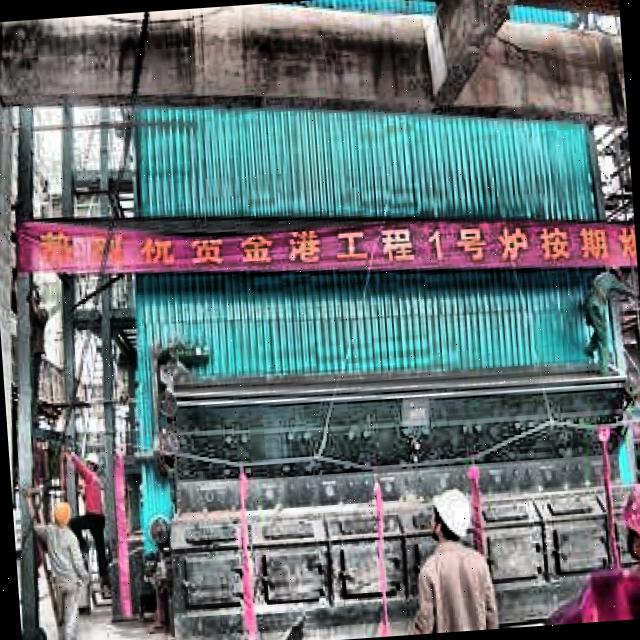helmet: (430, 483, 473, 548), (615, 468, 640, 572), (49, 494, 78, 534), (76, 444, 101, 478)
